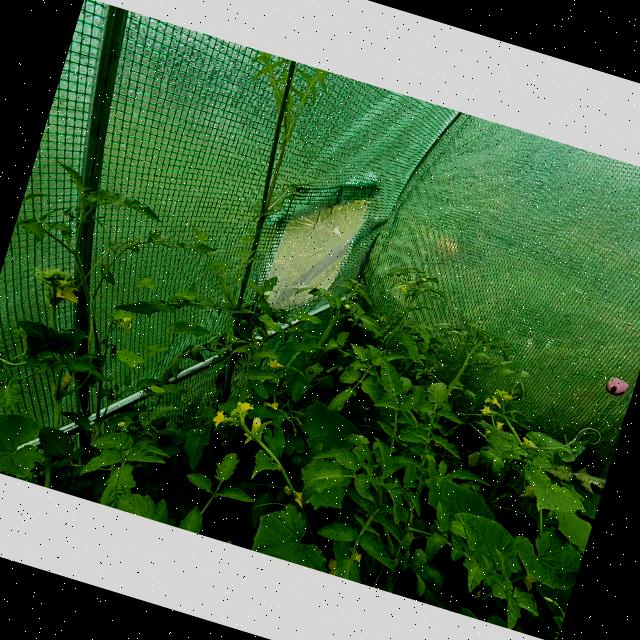Flowers: (44, 272, 82, 304), (242, 416, 266, 448), (288, 488, 308, 508), (263, 356, 286, 371), (208, 408, 225, 428), (235, 400, 255, 416), (493, 388, 512, 402), (477, 402, 493, 418), (60, 372, 74, 386), (262, 400, 280, 410), (522, 439, 538, 449), (398, 284, 407, 294)
